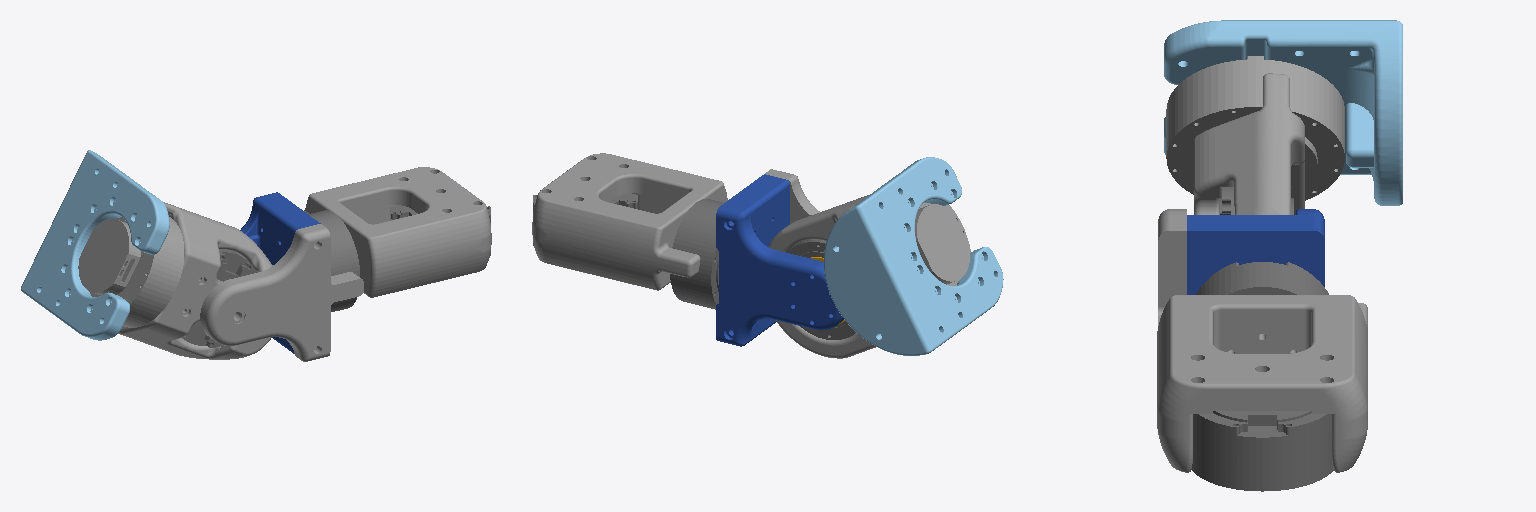
The robot description file, URDF, robot "leg_assembly_left":
<?xml version='1.0' encoding='utf-8'?>
<robot name="leg_assembly_left">
  <link name="link_leg_part_3_1">
    <visual>
      <origin xyz="0 0 0" rpy="0 0 0" />
      <geometry>
        <mesh filename="./meshes/leg_part_3_1.stl" />
        </geometry>
      <material name="link_leg_part_3_1_material">
        <color rgba="0.23137255 0.38039216 0.70588235 1" />
        </material>
      </visual>
    <collision>
      <origin xyz="0 0 0" rpy="0 0 0" />
      <geometry>
        <mesh filename="./meshes/leg_part_3_1.stl" />
        </geometry>
      </collision>
    <inertial>
      <mass value="0.1914504" />
      <inertia ixx="0.00043556748" iyy="0.00050360511" izz="0.00039339846" ixy="9.6383147e-05" ixz="0" iyz="0" />
      <origin xyz="0 0 0" rpy="-2.753668 -0.49098178 -0.7140939" />
      </inertial>
    </link>
  <link name="link_rmd_x8_90_mock_1_inner_rmd_x8_90_1">
    <visual>
      <origin xyz="0 0 0" rpy="0 0 0" />
      <geometry>
        <mesh filename="./meshes/rmd_x8_90_mock_1_inner_rmd_x8_90_1.stl" />
        </geometry>
      <material name="link_rmd_x8_90_mock_1_inner_rmd_x8_90_1_material">
        <color rgba="0.98039216 0.71372549 0.0039215686 1" />
        </material>
      </visual>
    <collision>
      <origin xyz="0 0 0" rpy="0 0 0" />
      <geometry>
        <mesh filename="./meshes/rmd_x8_90_mock_1_inner_rmd_x8_90_1.stl" />
        </geometry>
      </collision>
    <inertial>
      <mass value="0.35017331" />
      <inertia ixx="0.00020157869" iyy="0.00012756556" izz="0.00015223661" ixy="0" ixz="4.27315e-05" iyz="0" />
      <origin xyz="0.021650635 0.0125 0.011977659" rpy="3.1415927 0 3.1415927" />
      </inertial>
    </link>
  <joint name="joint_fastened_3" type="fixed">
    <origin xyz="-0.097659108 0.01745093 -0.01250002" rpy="1.5707963 0 0" />
    <parent link="link_leg_part_3_1" />
    <child link="link_rmd_x8_90_mock_1_inner_rmd_x8_90_1" />
    </joint>
  <link name="link_leg_part_4_1">
    <visual>
      <origin xyz="0 0 0" rpy="0 0 0" />
      <geometry>
        <mesh filename="./meshes/leg_part_4_1.stl" />
        </geometry>
      <material name="link_leg_part_4_1_material">
        <color rgba="0.64705882 0.64705882 0.64705882 1" />
        </material>
      </visual>
    <collision>
      <origin xyz="0 0 0" rpy="0 0 0" />
      <geometry>
        <mesh filename="./meshes/leg_part_4_1.stl" />
        </geometry>
      </collision>
    <inertial>
      <mass value="0.09299573" />
      <inertia ixx="8.6209079e-05" iyy="0.00017860969" izz="0.00025876717" ixy="0" ixz="0" iyz="0" />
      <origin xyz="-0.037174443 -0.060000019 -0.0098354041" rpy="0 0 0.0017096165" />
      </inertial>
    </link>
  <joint name="joint_fastened_4" type="fixed">
    <origin xyz="0.018991527 -0.05804907 -0.06000002" rpy="-1.5707963 0 0" />
    <parent link="link_leg_part_3_1" />
    <child link="link_leg_part_4_1" />
    </joint>
  <link name="link_rmd_x8_90_mock_2_outer_rmd_x8_90_1">
    <visual>
      <origin xyz="0 0 0" rpy="0 0 0" />
      <geometry>
        <mesh filename="./meshes/rmd_x8_90_mock_2_outer_rmd_x8_90_1.stl" />
        </geometry>
      <material name="link_rmd_x8_90_mock_2_outer_rmd_x8_90_1_material">
        <color rgba="0.49803922 0.49803922 0.49803922 1" />
        </material>
      </visual>
    <collision>
      <origin xyz="0 0 0" rpy="0 0 0" />
      <geometry>
        <mesh filename="./meshes/rmd_x8_90_mock_2_outer_rmd_x8_90_1.stl" />
        </geometry>
      </collision>
    <inertial>
      <mass value="0.49985879" />
      <inertia ixx="0.00048280871" iyy="0.00046437396" izz="0.00076940631" ixy="0" ixz="0" iyz="0" />
      <origin xyz="-0.044808157 0.018560146 -0.019942948" rpy="0 1.5707963 0" />
      </inertial>
    </link>
  <joint name="joint_fastened_5" type="fixed">
    <origin xyz="0.033991527 0.012861076 -0.044808178" rpy="-3.1415927 1.5707963 0" />
    <parent link="link_leg_part_3_1" />
    <child link="link_rmd_x8_90_mock_2_outer_rmd_x8_90_1" />
    </joint>
  <link name="link_rmd_x8_90_mock_1_outer_rmd_x8_90_1">
    <visual>
      <origin xyz="0 0 0" rpy="0 0 0" />
      <geometry>
        <mesh filename="./meshes/rmd_x8_90_mock_1_outer_rmd_x8_90_1.stl" />
        </geometry>
      <material name="link_rmd_x8_90_mock_1_outer_rmd_x8_90_1_material">
        <color rgba="0.49803922 0.49803922 0.49803922 1" />
        </material>
      </visual>
    <collision>
      <origin xyz="0 0 0" rpy="0 0 0" />
      <geometry>
        <mesh filename="./meshes/rmd_x8_90_mock_1_outer_rmd_x8_90_1.stl" />
        </geometry>
      </collision>
    <inertial>
      <mass value="0.49985879" />
      <inertia ixx="0.00048280871" iyy="0.00046437396" izz="0.00076940631" ixy="0" ixz="0" iyz="0" />
      <origin xyz="0 0 -0.027557052" rpy="3.1415927 -1.5707963 0" />
      </inertial>
    </link>
  <joint name="joint_rmd_x8_90_mock_1_dof_x8" type="revolute">
    <origin xyz="0.021650635 0.0125 0.0035" rpy="3.1415927 0 -2.0943951" />
    <parent link="link_rmd_x8_90_mock_1_inner_rmd_x8_90_1" />
    <child link="link_rmd_x8_90_mock_1_outer_rmd_x8_90_1" />
    <limit effort="90" velocity="5" lower="-1.0471976" upper="2.0943951" />
    <axis xyz="0 0 -1" />
    </joint>
  <link name="link_rmd_x8_90_mock_2_inner_rmd_x8_90_1">
    <visual>
      <origin xyz="0 0 0" rpy="0 0 0" />
      <geometry>
        <mesh filename="./meshes/rmd_x8_90_mock_2_inner_rmd_x8_90_1.stl" />
        </geometry>
      <material name="link_rmd_x8_90_mock_2_inner_rmd_x8_90_1_material">
        <color rgba="0.98039216 0.71372549 0.0039215686 1" />
        </material>
      </visual>
    <collision>
      <origin xyz="0 0 0" rpy="0 0 0" />
      <geometry>
        <mesh filename="./meshes/rmd_x8_90_mock_2_inner_rmd_x8_90_1.stl" />
        </geometry>
      </collision>
    <inertial>
      <mass value="0.35017331" />
      <inertia ixx="0.00012756556" iyy="0.00012756556" izz="0.00022624974" ixy="0" ixz="0" iyz="0" />
      <origin xyz="0 0 -0.0084776592" rpy="3.1415927 0 0" />
      </inertial>
    </link>
  <joint name="joint_rmd_x8_90_mock_2_dof_x8" type="revolute">
    <origin xyz="-0.044808157 0.018560146 -0.0475" rpy="3.1415927 0 0" />
    <parent link="link_rmd_x8_90_mock_2_outer_rmd_x8_90_1" />
    <child link="link_rmd_x8_90_mock_2_inner_rmd_x8_90_1" />
    <limit effort="90" velocity="5" lower="-3.1415927" upper="0" />
    <axis xyz="0 0 -1" />
    </joint>
  <link name="link_leg_part_2_left_1">
    <visual>
      <origin xyz="0 0 0" rpy="0 0 0" />
      <geometry>
        <mesh filename="./meshes/leg_part_2_left_1.stl" />
        </geometry>
      <material name="link_leg_part_2_left_1_material">
        <color rgba="0.64705882 0.64705882 0.64705882 1" />
        </material>
      </visual>
    <collision>
      <origin xyz="0 0 0" rpy="0 0 0" />
      <geometry>
        <mesh filename="./meshes/leg_part_2_left_1.stl" />
        </geometry>
      </collision>
    <inertial>
      <mass value="0.23289661" />
      <inertia ixx="0.0006932322" iyy="0.00049537603" izz="0.0009832984" ixy="-9.3648936e-06" ixz="-2.5858642e-06" iyz="-3.4541587e-05" />
      <origin xyz="0.01804262 -0.059496449 -0.015787305" rpy="-0.0046017221 0.063692797 -0.067107728" />
      </inertial>
    </link>
  <joint name="joint_fastened_2" type="fixed">
    <origin xyz="-0.018560146 -0.044808157 -0.0475" rpy="3.1415927 0 0" />
    <parent link="link_rmd_x8_90_mock_1_outer_rmd_x8_90_1" />
    <child link="link_leg_part_2_left_1" />
    </joint>
  <link name="link_let_part_5_left_1">
    <visual>
      <origin xyz="0 0 0" rpy="0 0 0" />
      <geometry>
        <mesh filename="./meshes/let_part_5_left_1.stl" />
        </geometry>
      <material name="link_let_part_5_left_1_material">
        <color rgba="0.64705882 0.64705882 0.64705882 1" />
        </material>
      </visual>
    <collision>
      <origin xyz="0 0 0" rpy="0 0 0" />
      <geometry>
        <mesh filename="./meshes/let_part_5_left_1.stl" />
        </geometry>
      </collision>
    <inertial>
      <mass value="0.28898133" />
      <inertia ixx="0.0013254719" iyy="0.0007160887" izz="0.00083314579" ixy="0" ixz="-5.4255244e-05" iyz="-2.9416279e-05" />
      <origin xyz="0.017475327 0.0012376983 -0.063202954" rpy="1.3266757 -0.10647641 1.5930957" />
      </inertial>
    </link>
  <joint name="joint_fastened_92" type="fixed">
    <origin xyz="0 0 0.0035" rpy="3.1415927 0 3.1415927" />
    <parent link="link_rmd_x8_90_mock_2_inner_rmd_x8_90_1" />
    <child link="link_let_part_5_left_1" />
    </joint>
  <link name="link_rmd_x12_150_mock_1_inner_x12_150_1">
    <visual>
      <origin xyz="0 0 0" rpy="0 0 0" />
      <geometry>
        <mesh filename="./meshes/rmd_x12_150_mock_1_inner_x12_150_1.stl" />
        </geometry>
      <material name="link_rmd_x12_150_mock_1_inner_x12_150_1_material">
        <color rgba="0.23137255 0.38039216 0.70588235 1" />
        </material>
      </visual>
    <collision>
      <origin xyz="0 0 0" rpy="0 0 0" />
      <geometry>
        <mesh filename="./meshes/rmd_x12_150_mock_1_inner_x12_150_1.stl" />
        </geometry>
      </collision>
    <inertial>
      <mass value="0.1494739" />
      <inertia ixx="4.1852816e-05" iyy="4.1852816e-05" izz="7.1701209e-05" ixy="0" ixz="0" iyz="0" />
      <origin xyz="0 0.0185 0.012141029" rpy="3.1415927 0 0" />
      </inertial>
    </link>
  <joint name="joint_fastened_1" type="fixed">
    <origin xyz="0.036429774 -0.12330816 -0.023061848" rpy="1.5707963 -1.5707963 0" />
    <parent link="link_leg_part_2_left_1" />
    <child link="link_rmd_x12_150_mock_1_inner_x12_150_1" />
    </joint>
  <link name="link_rmd_x8_90_mock_3_outer_rmd_x8_90_1">
    <visual>
      <origin xyz="0 0 0" rpy="0 0 0" />
      <geometry>
        <mesh filename="./meshes/rmd_x8_90_mock_3_outer_rmd_x8_90_1.stl" />
        </geometry>
      <material name="link_rmd_x8_90_mock_3_outer_rmd_x8_90_1_material">
        <color rgba="0.49803922 0.49803922 0.49803922 1" />
        </material>
      </visual>
    <collision>
      <origin xyz="0 0 0" rpy="0 0 0" />
      <geometry>
        <mesh filename="./meshes/rmd_x8_90_mock_3_outer_rmd_x8_90_1.stl" />
        </geometry>
      </collision>
    <inertial>
      <mass value="0.49985879" />
      <inertia ixx="0.00048280871" iyy="0.00046437396" izz="0.00076940631" ixy="0" ixz="0" iyz="0" />
      <origin xyz="-0.018560146 0.044808157 -0.019942948" rpy="0 1.5707963 0" />
      </inertial>
    </link>
  <joint name="joint_fastened_91" type="fixed">
    <origin xyz="0.02685 0.044808157 -0.10493985" rpy="-3.1415927 -1.5707963 0" />
    <parent link="link_let_part_5_left_1" />
    <child link="link_rmd_x8_90_mock_3_outer_rmd_x8_90_1" />
    </joint>
  <link name="link_rmd_x12_150_mock_1_outer_x12_150_1">
    <visual>
      <origin xyz="0 0 0" rpy="0 0 0" />
      <geometry>
        <mesh filename="./meshes/rmd_x12_150_mock_1_outer_x12_150_1.stl" />
        </geometry>
      <material name="link_rmd_x12_150_mock_1_outer_x12_150_1_material">
        <color rgba="0.64705882 0.64705882 0.64705882 1" />
        </material>
      </visual>
    <collision>
      <origin xyz="0 0 0" rpy="0 0 0" />
      <geometry>
        <mesh filename="./meshes/rmd_x12_150_mock_1_outer_x12_150_1.stl" />
        </geometry>
      </collision>
    <inertial>
      <mass value="1.1505225" />
      <inertia ixx="0.0013578926" iyy="0.0013275542" izz="0.0021889818" ixy="0" ixz="0" iyz="0" />
      <origin xyz="-1.5243254e-05 0 0.0086023019" rpy="3.1410042 0 3.1410042" />
      </inertial>
    </link>
  <joint name="joint_rmd_x12_150_mock_1_dof_x12" type="revolute">
    <origin xyz="0 0.0185 0.023" rpy="0 0 0" />
    <parent link="link_rmd_x12_150_mock_1_inner_x12_150_1" />
    <child link="link_rmd_x12_150_mock_1_outer_x12_150_1" />
    <limit effort="80" velocity="5" lower="-4.712389" upper="4.712389" />
    <axis xyz="0 0 -1" />
    </joint>
  <link name="link_rmd_x8_90_mock_3_inner_rmd_x8_90_1">
    <visual>
      <origin xyz="0 0 0" rpy="0 0 0" />
      <geometry>
        <mesh filename="./meshes/rmd_x8_90_mock_3_inner_rmd_x8_90_1.stl" />
        </geometry>
      <material name="link_rmd_x8_90_mock_3_inner_rmd_x8_90_1_material">
        <color rgba="0.98039216 0.71372549 0.0039215686 1" />
        </material>
      </visual>
    <collision>
      <origin xyz="0 0 0" rpy="0 0 0" />
      <geometry>
        <mesh filename="./meshes/rmd_x8_90_mock_3_inner_rmd_x8_90_1.stl" />
        </geometry>
      </collision>
    <inertial>
      <mass value="0.35017331" />
      <inertia ixx="0.00012756556" iyy="0.00012756556" izz="0.00022624974" ixy="0" ixz="0" iyz="0" />
      <origin xyz="0 0 -0.0084776592" rpy="3.1415927 0 0" />
      </inertial>
    </link>
  <joint name="joint_rmd_x8_90_mock_3_dof_x8" type="revolute">
    <origin xyz="-0.018560146 0.044808157 -0.0475" rpy="3.1415927 0 0" />
    <parent link="link_rmd_x8_90_mock_3_outer_rmd_x8_90_1" />
    <child link="link_rmd_x8_90_mock_3_inner_rmd_x8_90_1" />
    <limit effort="90" velocity="5" lower="-4.712389" upper="4.712389" />
    <axis xyz="0 0 -1" />
    </joint>
  <link name="link_leg_part_1_2">
    <visual>
      <origin xyz="0 0 0" rpy="0 0 0" />
      <geometry>
        <mesh filename="./meshes/leg_part_1_2.stl" />
        </geometry>
      <material name="link_leg_part_1_2_material">
        <color rgba="0.61568627 0.81176471 0.92941176 1" />
        </material>
      </visual>
    <collision>
      <origin xyz="0 0 0" rpy="0 0 0" />
      <geometry>
        <mesh filename="./meshes/leg_part_1_2.stl" />
        </geometry>
      </collision>
    <inertial>
      <mass value="0.18740424" />
      <inertia ixx="0.00050512115" iyy="0.00086371009" izz="0.00049678333" ixy="-8.1028268e-05" ixz="0" iyz="0" />
      <origin xyz="-0.0071596031 -0.0055805032 0.00099867745" rpy="-0.21686582 -0.20732123 -3.0962541" />
      </inertial>
    </link>
  <joint name="joint_fastened_12" type="fixed">
    <origin xyz="-0.057556396 -0.0071596999 0.0245" rpy="3.1415927 0 -1.5707963" />
    <parent link="link_rmd_x12_150_mock_1_outer_x12_150_1" />
    <child link="link_leg_part_1_2" />
    </joint>
  </robot>

--- What the picture shows (computed from the rendered views, not written in the file) ---
3 views of the same robot in one strip: view 1: azimuth 30°, elevation 25°; view 2: azimuth 150°, elevation 25°; view 3: azimuth 270°, elevation 25° (orthographic).
Model leg_assembly_left with 13 links and 12 joints (4 revolute, 8 fixed), rooted at link_leg_part_3_1, posed every joint at zero.
Visible links, largest first — view 1: link_let_part_5_left_1, link_leg_part_1_2, link_leg_part_4_1, link_leg_part_2_left_1, link_rmd_x12_150_mock_1_outer_x12_150_1, link_leg_part_3_1, link_rmd_x8_90_mock_2_outer_rmd_x8_90_1, link_rmd_x8_90_mock_1_outer_rmd_x8_90_1; view 2: link_leg_part_1_2, link_let_part_5_left_1, link_leg_part_3_1, link_rmd_x8_90_mock_2_outer_rmd_x8_90_1, link_rmd_x12_150_mock_1_outer_x12_150_1, link_leg_part_2_left_1, link_rmd_x8_90_mock_1_outer_rmd_x8_90_1, link_leg_part_4_1; view 3: link_let_part_5_left_1, link_leg_part_1_2, link_rmd_x12_150_mock_1_outer_x12_150_1, link_leg_part_2_left_1, link_rmd_x8_90_mock_3_outer_rmd_x8_90_1, link_leg_part_3_1, link_rmd_x8_90_mock_2_outer_rmd_x8_90_1, link_leg_part_4_1.
Link boxes in pixels (x1,y1,x2,y2): link_let_part_5_left_1: (304,167,491,297); link_leg_part_1_2: (21,150,169,340); link_leg_part_4_1: (200,224,363,361); link_leg_part_2_left_1: (118,202,272,359); link_rmd_x12_150_mock_1_outer_x12_150_1: (78,217,183,327); link_leg_part_3_1: (240,192,320,353); link_rmd_x8_90_mock_2_outer_rmd_x8_90_1: (308,210,359,311); link_rmd_x8_90_mock_1_outer_rmd_x8_90_1: (181,249,256,347); link_leg_part_1_2: (824,157,1003,355); link_let_part_5_left_1: (532,153,727,290); link_leg_part_3_1: (716,174,843,346); link_rmd_x8_90_mock_2_outer_rmd_x8_90_1: (670,199,723,309); link_rmd_x12_150_mock_1_outer_x12_150_1: (915,203,970,285); link_leg_part_2_left_1: (768,195,875,358); link_rmd_x8_90_mock_1_outer_rmd_x8_90_1: (788,240,855,339); link_leg_part_4_1: (765,169,819,223); link_let_part_5_left_1: (1157,295,1367,472); link_leg_part_1_2: (1164,20,1402,205); link_rmd_x12_150_mock_1_outer_x12_150_1: (1166,56,1344,200); link_leg_part_2_left_1: (1194,73,1304,214); link_rmd_x8_90_mock_3_outer_rmd_x8_90_1: (1191,411,1333,491); link_leg_part_3_1: (1187,209,1324,294); link_rmd_x8_90_mock_2_outer_rmd_x8_90_1: (1196,262,1328,294); link_leg_part_4_1: (1158,209,1186,325).
Size in the robot's own frame: 0.5032 by 0.1712 by 0.2173 metres.
13 mesh visuals loaded from 13 distinct referenced files (13 binary STL).